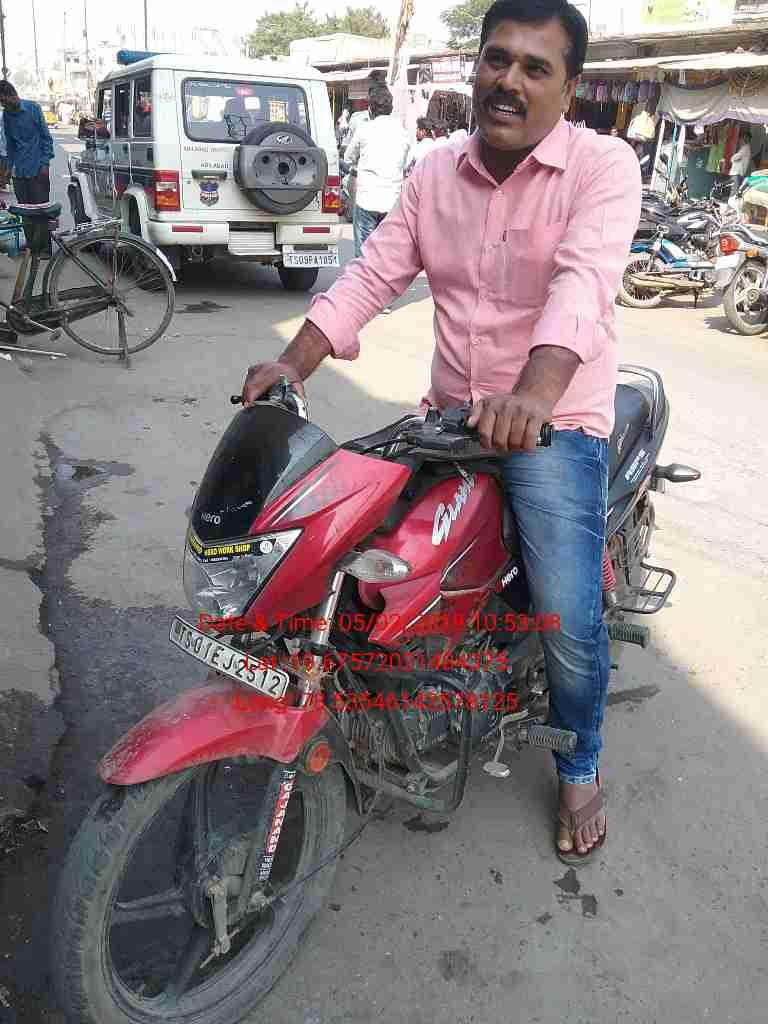plate: (168, 602, 297, 703)
